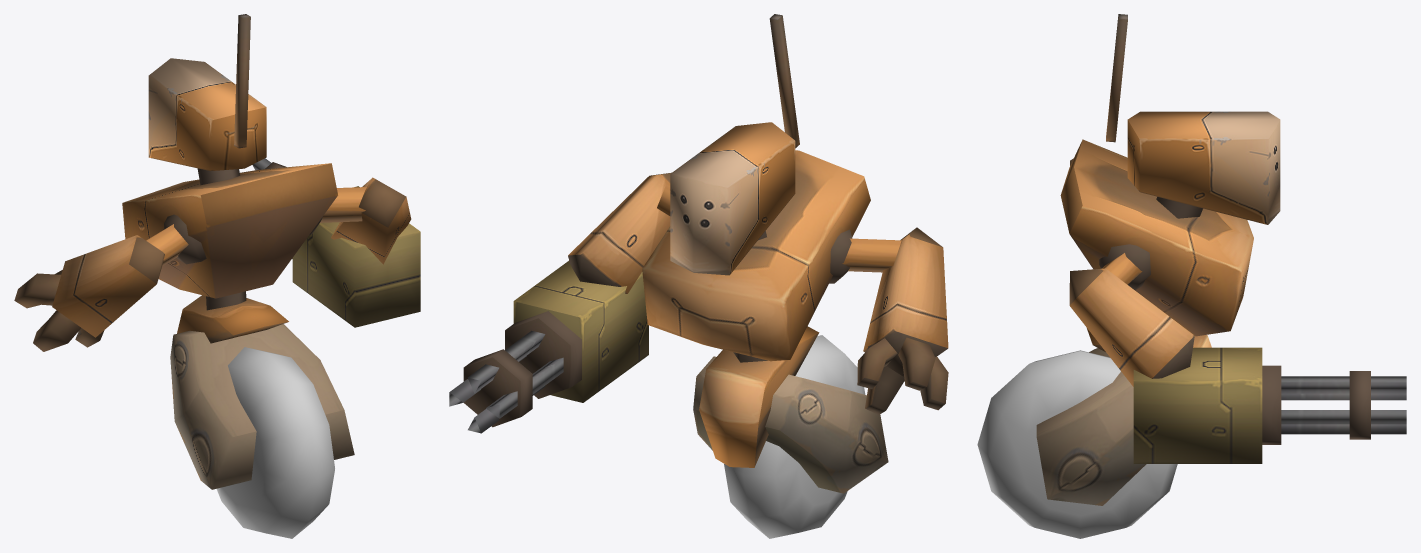
Rendered from PlayerModelDiffuseOnly02.FBX.
The picture shows the model from 3 angles, left to right: view 1: azimuth 30°, elevation 25°; view 2: azimuth 150°, elevation 25°; view 3: azimuth 270°, elevation 25°; orthographic projection. The views are drawn at different scales.
Parts seen in each view (by area): view 1: PlayerBody, PlayerWheel, PlayerSwingArm, PlayerLeftArm, PlayerMinigunFrame, PlayerRightArm; view 2: PlayerBody, PlayerLeftArm, PlayerMinigunFrame, PlayerSwingArm, PlayerWheel, PlayerRightArm, PlayerMinigunBarrels; view 3: PlayerBody, PlayerWheel, PlayerMinigunFrame, PlayerRightArm, PlayerSwingArm, PlayerMinigunBarrels.
Part boxes in pixels (x1,y1,x2,y2): PlayerBody: (122, 14, 337, 343); PlayerWheel: (216, 347, 334, 538); PlayerSwingArm: (170, 324, 354, 489); PlayerLeftArm: (14, 214, 206, 351); PlayerMinigunFrame: (292, 186, 420, 327); PlayerRightArm: (309, 177, 411, 264); PlayerBody: (642, 14, 870, 467); PlayerLeftArm: (829, 227, 948, 414); PlayerMinigunFrame: (505, 260, 648, 402); PlayerSwingArm: (693, 356, 888, 493); PlayerWheel: (724, 335, 865, 538); PlayerRightArm: (568, 172, 671, 293); PlayerMinigunBarrels: (449, 330, 563, 433); PlayerBody: (1060, 14, 1280, 351); PlayerWheel: (977, 350, 1177, 538); PlayerMinigunFrame: (1133, 347, 1281, 463); PlayerRightArm: (1069, 244, 1194, 386); PlayerSwingArm: (1036, 348, 1146, 505); PlayerMinigunBarrels: (1281, 371, 1406, 439).
Bounding box in the file's own units: 52.95 × 69.16 × 51.61.
